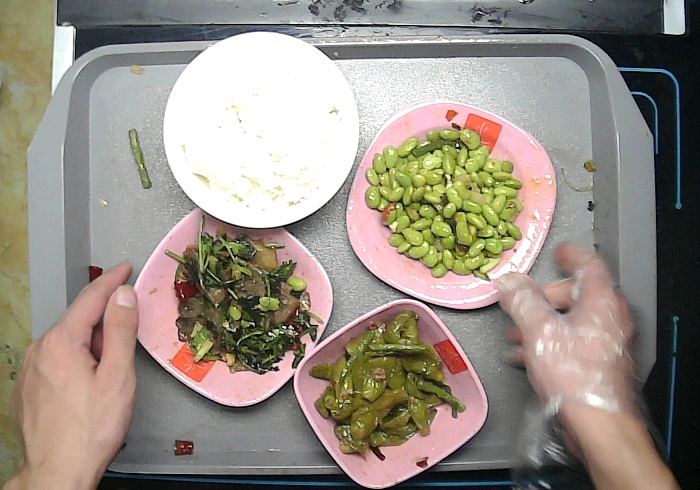SHKJ-Fan_Wan: (160, 28, 362, 230)
SHKJ-Fen_Se_Cai_Die: (131, 202, 335, 409)
SHKJ-Fen_Se_Si_Fang_Cai_Die: (344, 96, 559, 314)
SHKJ-Fen_Se_Xiao_Fang_Die: (290, 299, 489, 490)
